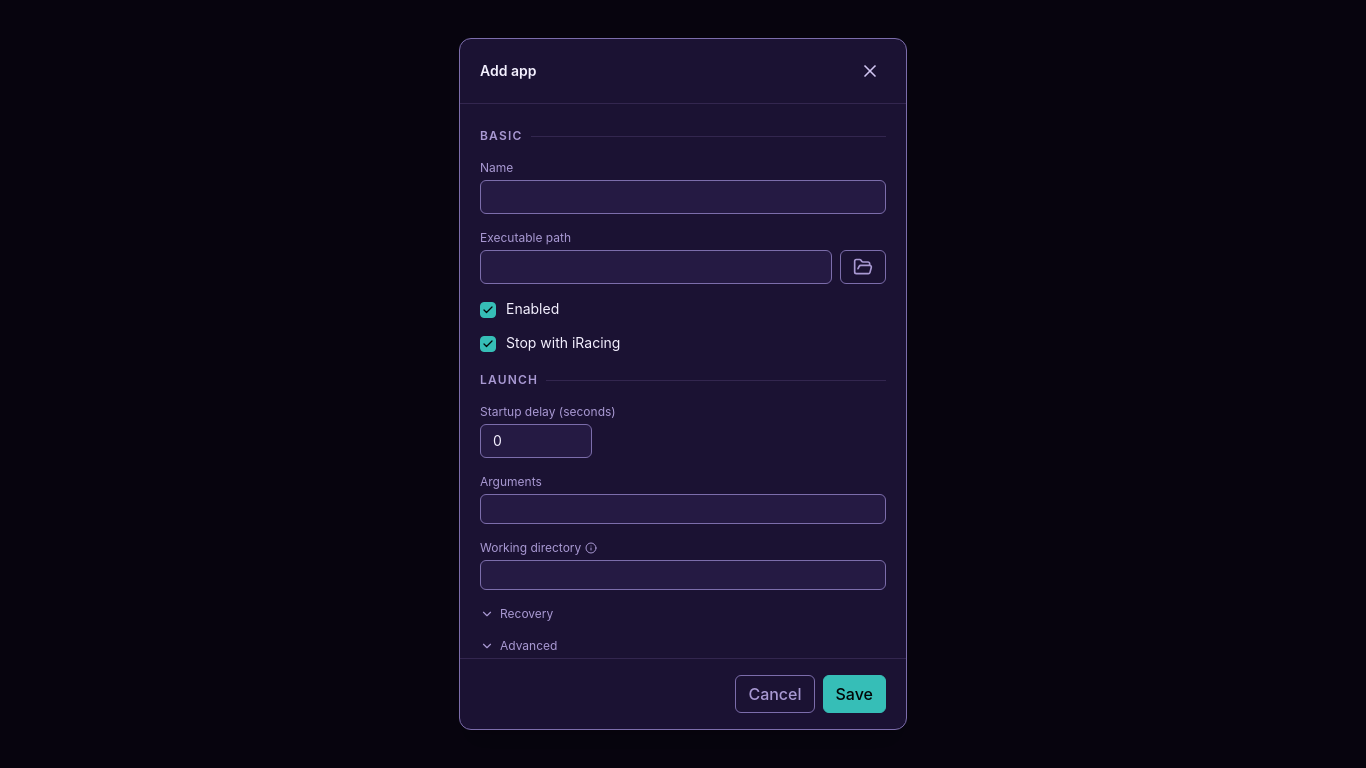
Scenario: AppFormModal validation › shows API error with role=alert
This screenshot has width=1366, height=768.
Type "App" into the field labelled "Name" at point(683, 197), box x1=480 y1=180 x2=886 y2=214
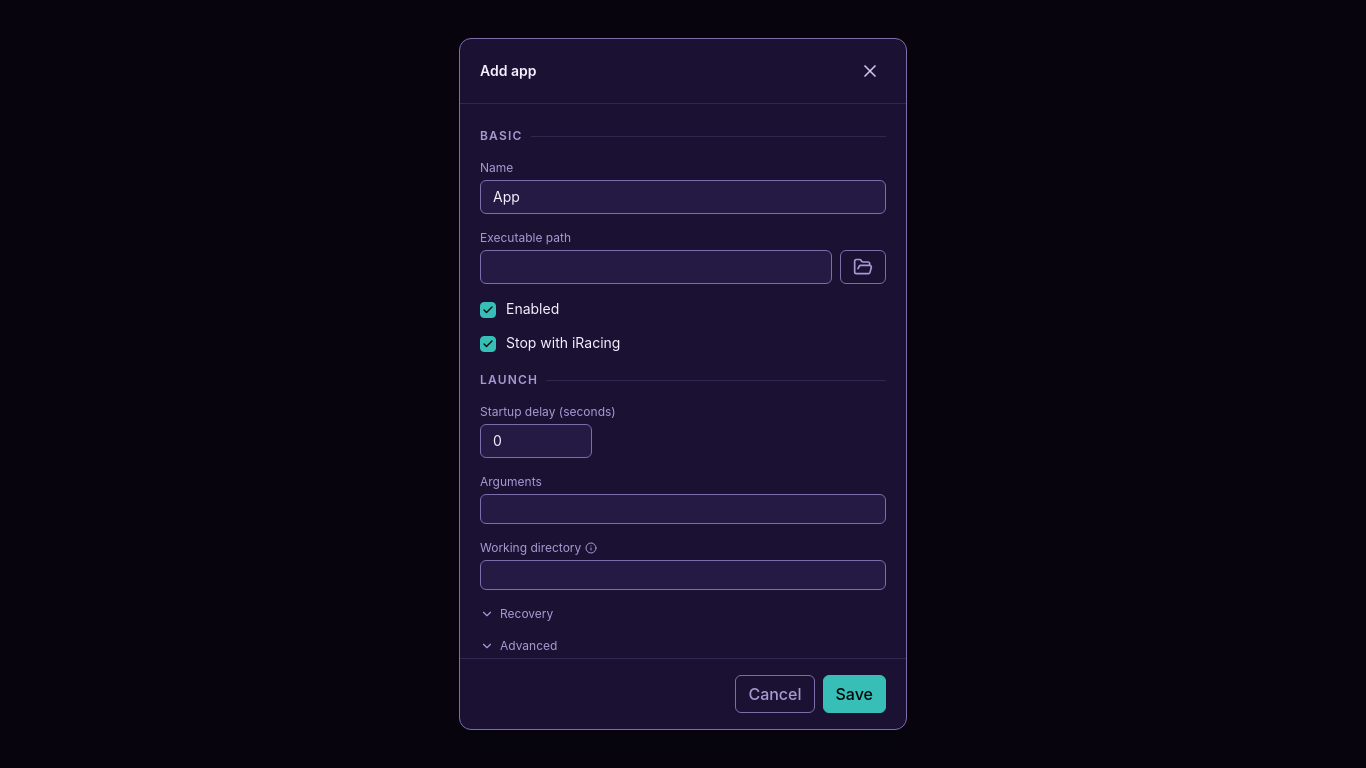
Type "app.exe" into the field labelled "Executable path" at point(656, 267), box x1=480 y1=250 x2=832 y2=284
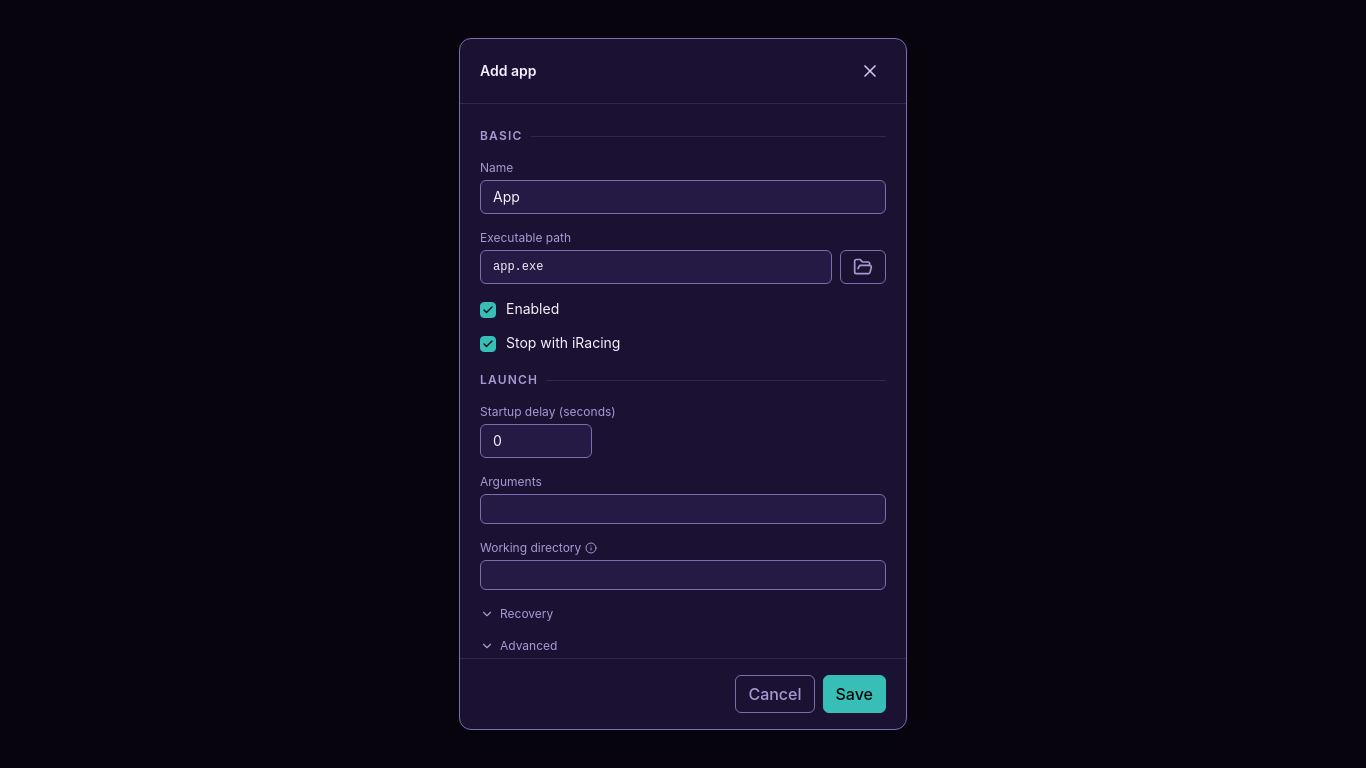
Click the submit button at point(854, 694), box x1=822 y1=675 x2=886 y2=713
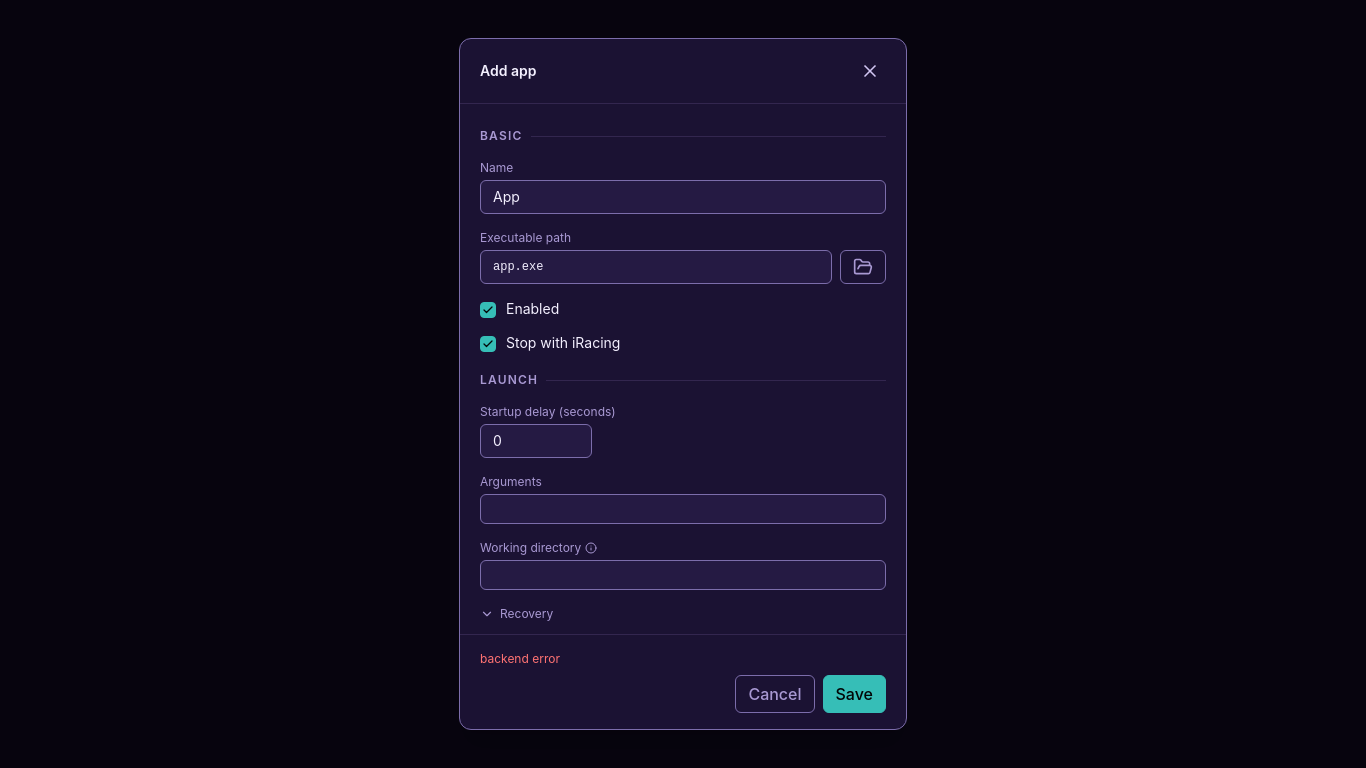
expect the message reads "backend error": met, box x1=480 y1=651 x2=560 y2=666
